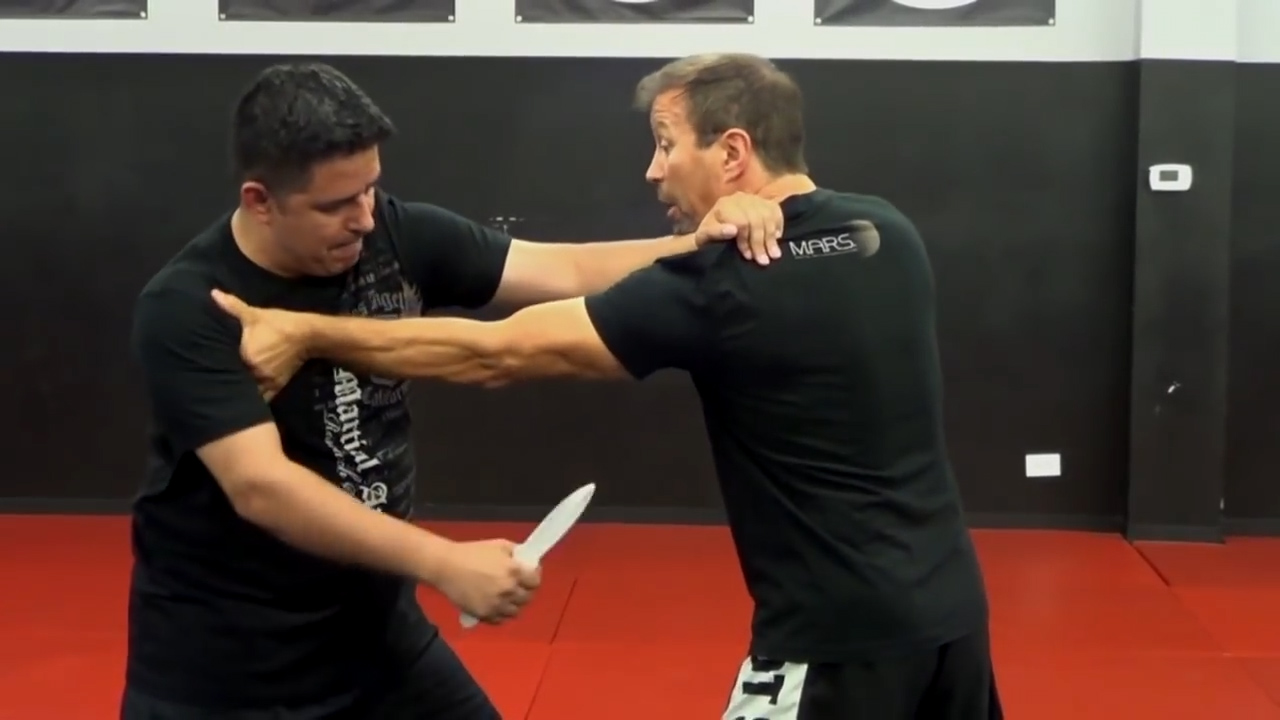knife: (453, 477, 600, 633)
